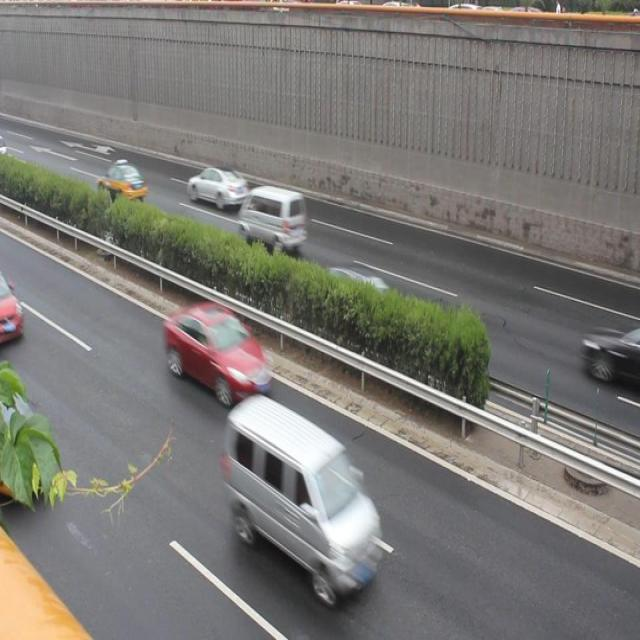car: (162, 298, 269, 406), (312, 252, 392, 320), (185, 159, 252, 220), (98, 157, 150, 212)
truck: (216, 395, 387, 586), (238, 181, 312, 253)
